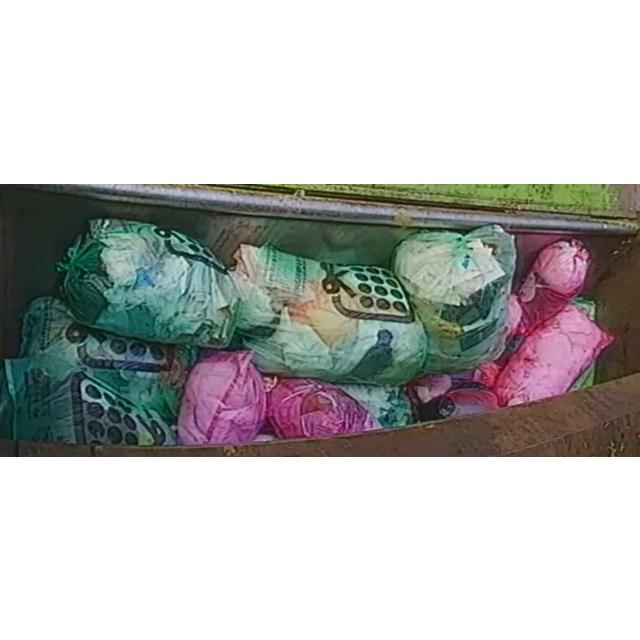general_trashbag: (234, 244, 428, 382), (56, 218, 238, 346), (21, 296, 198, 424), (392, 224, 516, 372), (0, 356, 176, 444), (336, 384, 414, 427)
other_trashbag: (492, 303, 614, 405), (178, 349, 265, 444), (516, 238, 589, 335), (266, 378, 381, 437), (442, 388, 499, 415)
